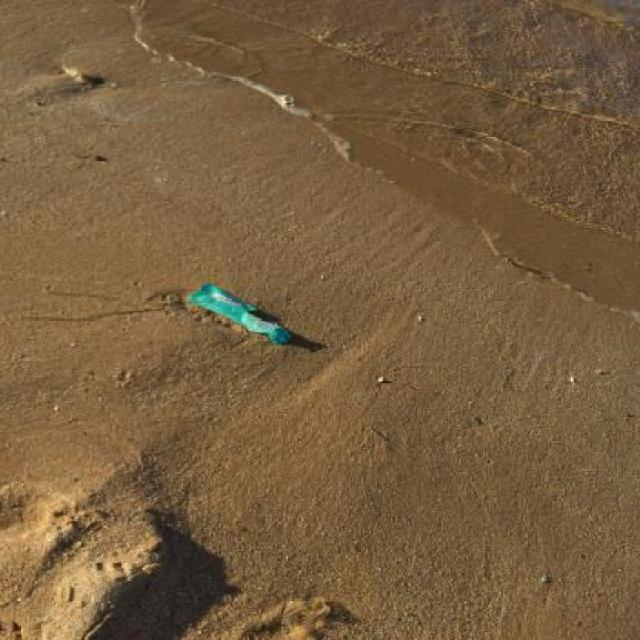plastic: (188, 282, 292, 346)
